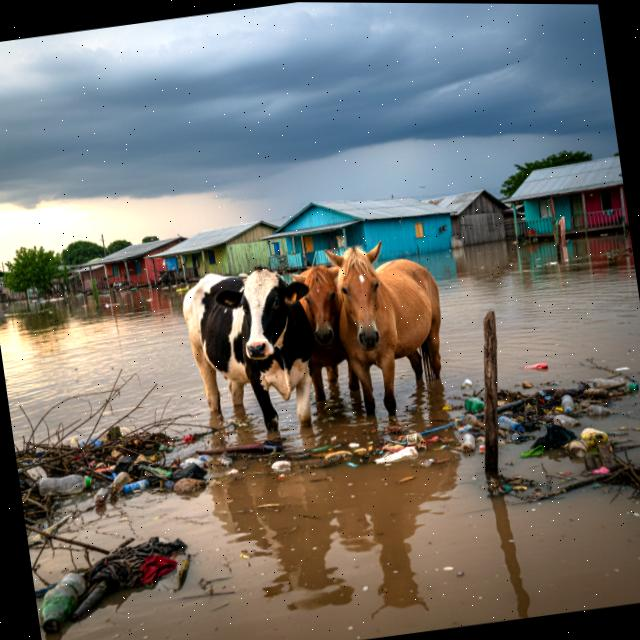cow: (166, 251, 332, 456)
horse: (320, 226, 464, 433), (286, 256, 369, 420)
